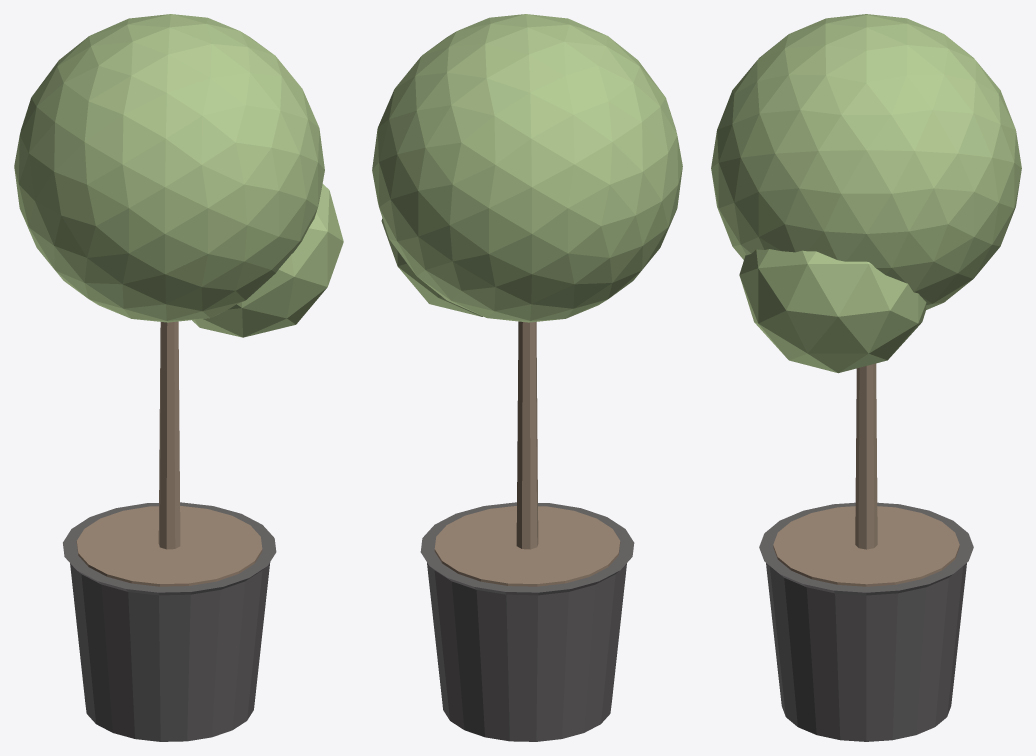
Rendered from planter_tree.glb.
3 renders of one model, left to right at view 1: azimuth 30°, elevation 25°; view 2: azimuth 150°, elevation 25°; view 3: azimuth 270°, elevation 25°, orthographic.
Parts seen in each view (by area): view 1: planter_tree_leaf2, planter_tree_dark, planter_tree_mulch, planter_tree_bark; view 2: planter_tree_leaf2, planter_tree_dark, planter_tree_mulch, planter_tree_bark; view 3: planter_tree_leaf2, planter_tree_dark, planter_tree_mulch, planter_tree_bark.
Boxes of the visible parts, x1,y1,x2,y2 form: planter_tree_leaf2: (14,14,343,337); planter_tree_dark: (63,502,276,741); planter_tree_mulch: (76,506,262,586); planter_tree_bark: (158,321,180,549); planter_tree_leaf2: (372,14,682,322); planter_tree_dark: (420,502,634,741); planter_tree_mulch: (434,506,620,586); planter_tree_bark: (516,321,538,549); planter_tree_leaf2: (711,14,1021,373); planter_tree_dark: (759,502,973,741); planter_tree_mulch: (773,506,959,586); planter_tree_bark: (855,363,877,549).
Bounding box in the file's own units: 1.15 × 2.65 × 1.1.
